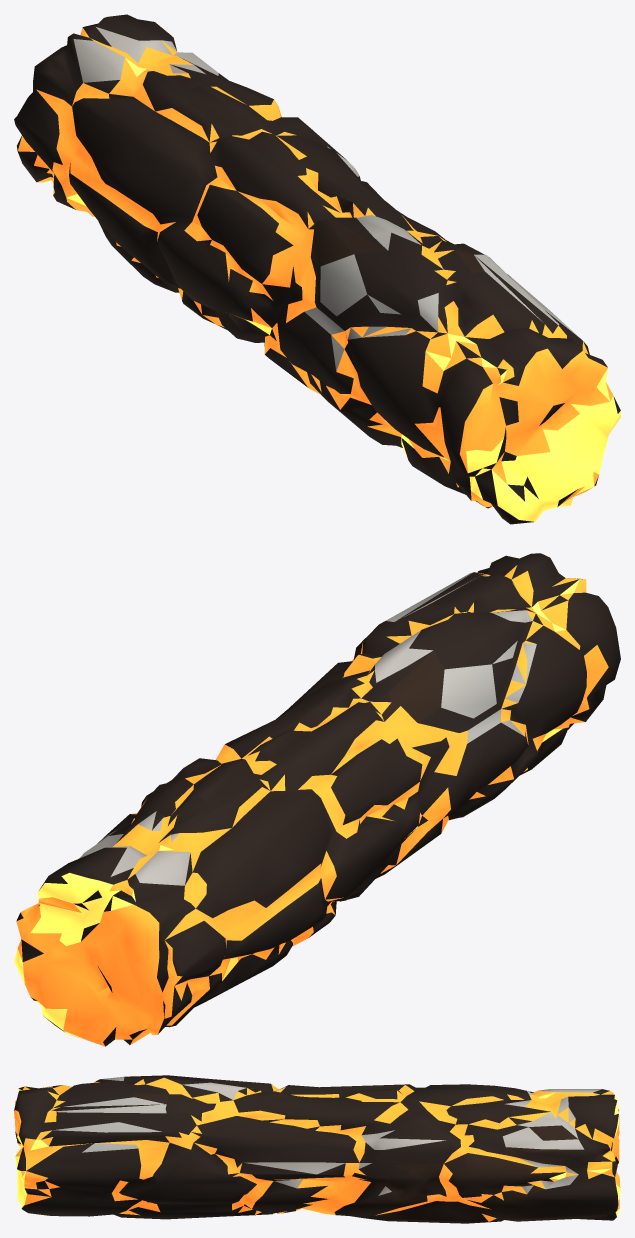
File: ember_log_burning_lod1.glb
3 views of the same model, one above another, from view 1: azimuth 30°, elevation 25°; view 2: azimuth 150°, elevation 25°; view 3: azimuth 270°, elevation 25° (orthographic). The views are drawn at different scales.
Visible parts, largest first — view 1: ember_log_burning.001; view 2: ember_log_burning.001; view 3: ember_log_burning.001.
Boxes of the visible parts, x1,y1,x2,y2 form: ember_log_burning.001: [14, 14, 620, 524]; ember_log_burning.001: [14, 553, 620, 1046]; ember_log_burning.001: [14, 1075, 620, 1223].
Bounding box in the file's own units: 9.98 × 9.89 × 40.52.
